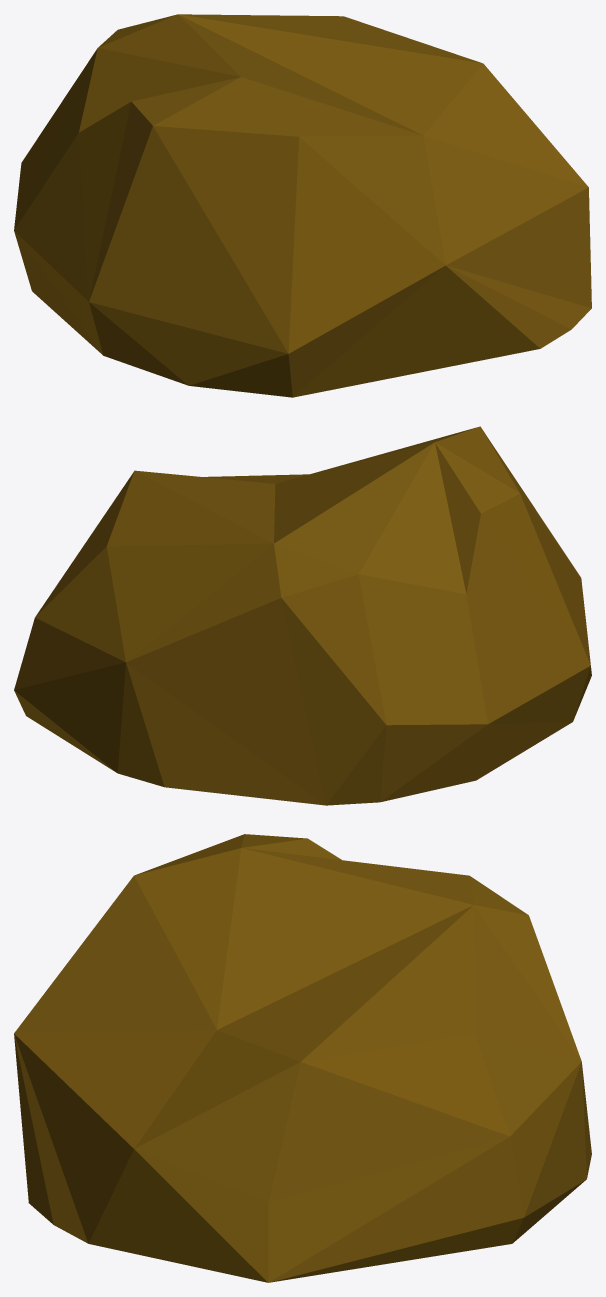
The model's file is hard_beanbag_2.fbx.
3 views of the same model, one above another, from view 1: azimuth 30°, elevation 25°; view 2: azimuth 150°, elevation 25°; view 3: azimuth 270°, elevation 25° (orthographic). The views are drawn at different scales.
Parts seen in each view (by area): view 1: hard_beanbag_2; view 2: hard_beanbag_2; view 3: hard_beanbag_2.
Part boxes in pixels (x1,y1,x2,y2): hard_beanbag_2: (14,14,591,397); hard_beanbag_2: (14,426,591,805); hard_beanbag_2: (14,834,591,1282).
Size of the model in its own units: 5.52 by 2.55 by 5.23.
